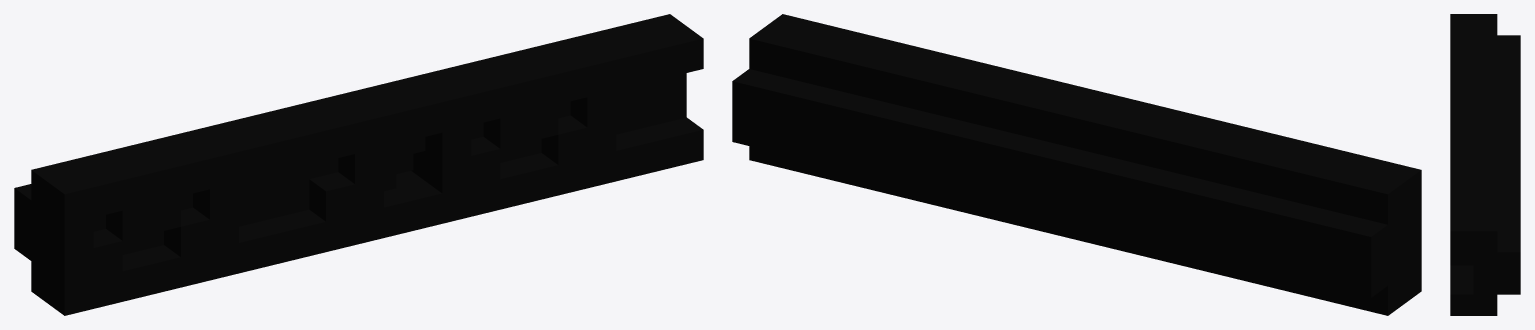
File: Slider_Full_Mid.002.fbx
3 views of the same model, side by side, from view 1: azimuth 30°, elevation 25°; view 2: azimuth 150°, elevation 25°; view 3: azimuth 270°, elevation 25° (orthographic). The views are drawn at different scales.
Visible parts, largest first — view 1: Slider_Full_Mid.002; view 2: Slider_Full_Mid.002; view 3: Slider_Full_Mid.002.
Boxes of the visible parts, box(x1,y1,x2,y2) form: Slider_Full_Mid.002: box(14, 14, 703, 315); Slider_Full_Mid.002: box(732, 14, 1421, 315); Slider_Full_Mid.002: box(1450, 14, 1520, 315).
Bounding box in the file's own units: 2.2 × 0.4 × 0.3.
